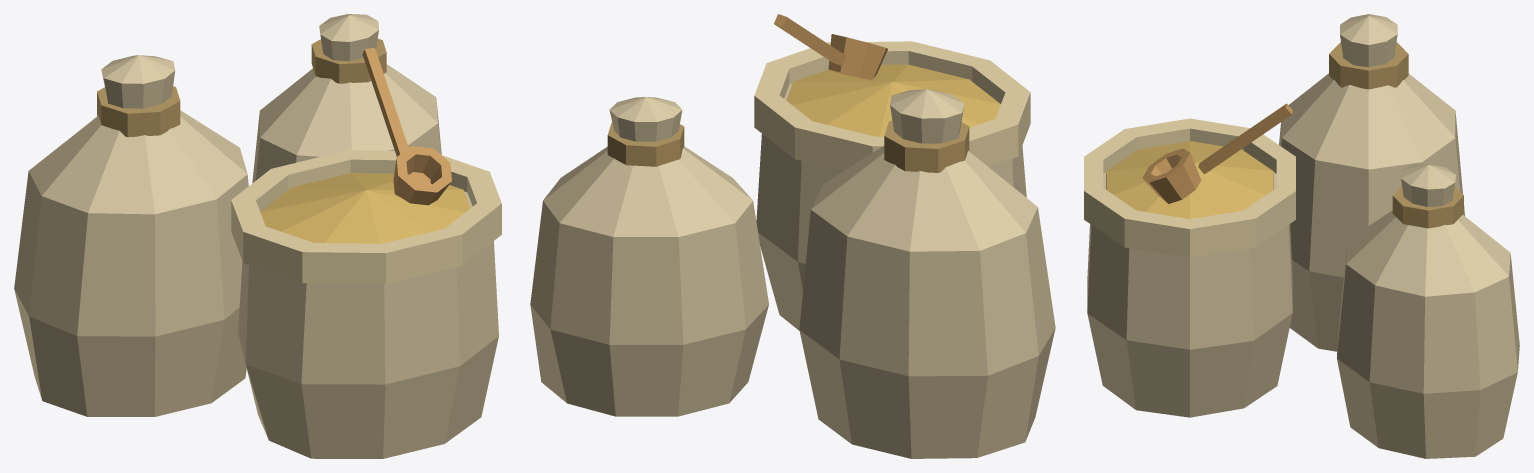
The model's file is seed-sack-pixor.glb.
The picture shows the model from 3 angles, left to right: view 1: azimuth 30°, elevation 25°; view 2: azimuth 150°, elevation 25°; view 3: azimuth 270°, elevation 25°; orthographic projection. The views are drawn at different scales.
Parts seen in each view (by area): view 1: Sacks, Sack rim, Sack seed, Sack scoop, Sack ties; view 2: Sacks, Sack rim, Sack seed, Sack ties, Sack scoop; view 3: Sacks, Sack rim, Sack seed, Sack ties, Sack scoop.
Part boxes in pixels (left/top/right/bottom): Sacks: left=14, top=14, right=498, bottom=458; Sack rim: left=231, top=150, right=501, bottom=284; Sack seed: left=260, top=173, right=470, bottom=243; Sack scoop: left=362, top=47, right=451, bottom=205; Sack ties: left=97, top=38, right=386, bottom=137; Sacks: left=530, top=83, right=1055, bottom=458; Sack rim: left=754, top=41, right=1030, bottom=170; Sack seed: left=786, top=64, right=1000, bottom=136; Sack ties: left=607, top=121, right=969, bottom=172; Sack scoop: left=774, top=14, right=887, bottom=79; Sacks: left=1087, top=14, right=1519, bottom=458; Sack rim: left=1084, top=118, right=1295, bottom=257; Sack seed: left=1106, top=141, right=1273, bottom=218; Sack ties: left=1329, top=42, right=1463, bottom=228; Sack scoop: left=1142, top=103, right=1292, bottom=203.
Bounding box in the file's own units: 1.19 × 0.825 × 1.1.
